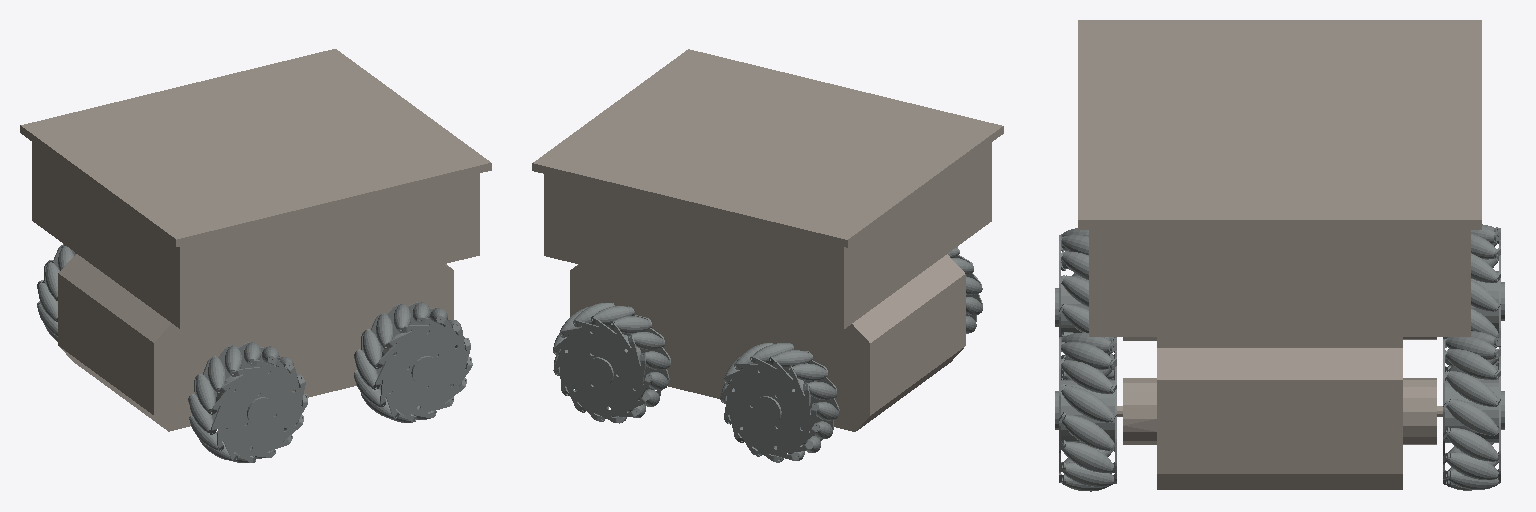
URDF robot description (urdf12-6):
<?xml version="1.0" encoding="utf-8"?>
<!-- This URDF was automatically created by SolidWorks to URDF Exporter! Originally created by Stephen Brawner (brawner@gmail.com) 
     Commit Version: 1.6.0-1-g15f4949  Build Version: 1.6.7594.29634
     For more information, please see http://wiki.ros.org/sw_urdf_exporter -->
<robot
  name="urdf12-6">
  <link name="base_footprint">
  </link>
  <link
    name="base_link">
    <inertial>
      <origin
        xyz="-3.81796532062504E-18 1.37386604686677E-17 -0.00480318889339569"
        rpy="0 0 0" />
      <mass
        value="30.4259503345265" />
      <inertia
        ixx="0.422421609875218"
        ixy="-1.14233499515592E-17"
        ixz="-1.74157299818039E-17"
        iyy="0.598417947630081"
        iyz="-3.14098420828289E-17"
        izz="0.617470364757312" />
    </inertial>
    <visual>
      <origin
        xyz="0 0 0"
        rpy="0 0 0" />
      <geometry>
        <mesh
          filename="package://mecanum_mr/meshes/base_link.STL" />
      </geometry>
      <material
        name="">
        <color
          rgba="0.650980392156863 0.619607843137255 0.588235294117647 1" />
      </material>
    </visual>
    <collision>
      <origin
        xyz="0 0 0"
        rpy="0 0 0" />
      <geometry>
        <mesh
          filename="package://mecanum_mr/meshes/base_link.STL" />
      </geometry>
    </collision>
  </link>
  <joint name="base_joint" type="fixed">
		<parent link="base_footprint" />
		<child link="base_link" />
		<origin xyz="0 0 0.185" rpy="0 0 0"/>
	</joint>
  <link
    name="W1">
    <inertial>
      <origin
        xyz="-0.00058365 0.0010812 0.028868"
        rpy="0 0 0" />
      <mass
        value="2.6342" />
      <inertia
        ixx="0.0035197"
        ixy="1.7883E-09"
        ixz="-5.9905E-08"
        iyy="0.0035197"
        iyz="-5.003E-09"
        izz="0.0061962" />
    </inertial>
    <visual>
      <origin
        xyz="0 0 0"
        rpy="0 0 0" />
      <geometry>
        <mesh
          filename="package://mecanum_mr/meshes/W1.STL" />
      </geometry>
      <material
        name="">
        <color
          rgba="0.52941 0.54902 0.54902 1" />
      </material>
    </visual>
    <collision>
      <origin
        xyz="0 0 0"
        rpy="0 0 0" />
      <geometry>
        <mesh
          filename="package://mecanum_mr/meshes/W1.STL" />
      </geometry>
    </collision>
  </link>
  <joint
    name="J-w1"
    type="continuous">
    <origin
      xyz="0.11063 -0.20025 -0.11383"
      rpy="-1.5708 0 0" />
    <parent
      link="base_link" />
    <child
      link="W1" />
    <axis
      xyz="0 0 -1" />
    <limit
      lower="0"
      upper="0"
      effort="30"
      velocity="30" />
    <dynamics
      damping="0.1"
      friction="0.1" />
  </joint>
  <link
    name="W2">
    <inertial>
      <origin
        xyz="-0.00122317488329381 -0.00011606444863449 0.0288683643871434"
        rpy="0 0 0" />
      <mass
        value="2.63423386950633" />
      <inertia
        ixx="0.00351971856076166"
        ixy="7.31826596754443E-10"
        ixz="-1.8742270101092E-08"
        iyy="0.00351972496216119"
        iyz="-5.71172503754628E-08"
        izz="0.00619618953824557" />
    </inertial>
    <visual>
      <origin
        xyz="0 0 0"
        rpy="0 0 0" />
      <geometry>
        <mesh
          filename="package://mecanum_mr/meshes/W2.STL" />
      </geometry>
      <material
        name="">
        <color
          rgba="0.529411764705882 0.549019607843137 0.549019607843137 1" />
      </material>
    </visual>
    <collision>
      <origin
        xyz="0 0 0"
        rpy="0 0 0" />
      <geometry>
        <mesh
          filename="package://mecanum_mr/meshes/W2.STL" />
      </geometry>
    </collision>
  </link>
  <joint
    name="J-w2"
    type="continuous">
    <origin
      xyz="-0.10868 -0.20025 -0.11513"
      rpy="-1.5708 0 0" />
    <parent
      link="base_link" />
    <child
      link="W2" />
    <axis
      xyz="0 0 -1" />
    <limit
      lower="0"
      upper="0"
      effort="30"
      velocity="30" />
    <dynamics
      damping="0.1"
      friction="0.1" />
  </joint>
  <link
    name="W3">
    <inertial>
      <origin
        xyz="0.00113385355119835 0.000473290476708049 -0.0288683643871428"
        rpy="0 0 0" />
      <mass
        value="2.63423386950646" />
      <inertia
        ixx="0.00351972058659792"
        ixy="-3.06589920256822E-09"
        ixz="-4.3419309339679E-08"
        iyy="0.00351972293632519"
        iyz="4.15742141533899E-08"
        izz="0.00619618953824579" />
    </inertial>
    <visual>
      <origin
        xyz="0 0 0"
        rpy="0 0 0" />
      <geometry>
        <mesh
          filename="package://mecanum_mr/meshes/W3.STL" />
      </geometry>
      <material
        name="">
        <color
          rgba="0.529411764705882 0.549019607843137 0.549019607843137 1" />
      </material>
    </visual>
    <collision>
      <origin
        xyz="0 0 0"
        rpy="0 0 0" />
      <geometry>
        <mesh
          filename="package://mecanum_mr/meshes/W3.STL" />
      </geometry>
    </collision>
  </link>
  <joint
    name="J-w3"
    type="continuous">
    <origin
      xyz="0.10877 0.20025 -0.11449"
      rpy="-1.5708 0 0" />
    <parent
      link="base_link" />
    <child
      link="W3" />
    <axis
      xyz="0 0 1" />
    <limit
      lower="0"
      upper="0"
      effort="30"
      velocity="30" />
    <dynamics
      damping="0.1"
      friction="0.1" />
  </joint>
  <link
    name="W4">
    <inertial>
      <origin
        xyz="0.00017707 0.0012158 -0.028868"
        rpy="0 0 0" />
      <mass
        value="2.6342" />
      <inertia
        ixx="0.0035197"
        ixy="4.0855E-10"
        ixz="-5.7983E-08"
        iyy="0.0035197"
        iyz="-1.5863E-08"
        izz="0.0061962" />
    </inertial>
    <visual>
      <origin
        xyz="0 0 0"
        rpy="0 0 0" />
      <geometry>
        <mesh
          filename="package://mecanum_mr/meshes/W4.STL" />
      </geometry>
      <material
        name="">
        <color
          rgba="0.52941 0.54902 0.54902 1" />
      </material>
    </visual>
    <collision>
      <origin
        xyz="0 0 0"
        rpy="0 0 0" />
      <geometry>
        <mesh
          filename="package://mecanum_mr/meshes/W4.STL" />
      </geometry>
    </collision>
  </link>
  <joint
    name="J-w4"
    type="continuous">
    <origin
      xyz="-0.11474 0.20025 -0.1116"
      rpy="-1.5708 0 0" />
    <parent
      link="base_link" />
    <child
      link="W4" />
    <axis
      xyz="0 0 1" />
    <limit
      lower="0"
      upper="0"
      effort="30"
      velocity="30" />
    <dynamics
      damping="0.1"
      friction="0.1" />
  </joint>


<link name="lidar_link">
		<visual>
    <origin
        xyz="0.0 0.0 0.0"
        rpy="1.5707 0 4.71" />
			<geometry>
				<mesh filename="package://mecanum_mr/meshes/rplidar.dae" scale="0.001 0.001 0.001"/>
			</geometry>
			<material name="">
				<color rgba="0.7 0.7 0.7 1.0"/>
			</material>
		</visual>
		<collision>
    <origin
        xyz="0.0 0.0 0.0"
        rpy="1.5707 0 4.71" />
			<geometry>
				<mesh filename="package://mecanum_mr/meshes/rplidar.dae" scale="0.001 0.001 0.001"/>
			</geometry>
		</collision>
	</link>

	<joint name="lidar_joint" type="fixed">
		<parent link="base_link"/>
		<child link="lidar_link"/>
		<origin xyz="0.0 0 0.122" rpy="0 0 0"/>
	</joint>

	<link name="imu_link">
	</link>

	<joint name="imu_joint" type="fixed">
		<parent link="base_link"/>
		<child link="imu_link"/>
		<origin xyz="0 0 0" rpy="0 0 0"/>
	</joint>


<!--######################################################################-->
<gazebo>
  <plugin name="gazebo_ros_control" filename="libgazebo_ros_control.so">
    <robotSimType>gazebo_ros_control/DefaultRobotHWSim</robotSimType>
    <legacyModeNS>false</legacyModeNS>
  </plugin>
</gazebo>
<!--######################################################################-->
<gazebo>
  <plugin name="object_controller" filename="libgazebo_ros_planar_move.so">
    <commandTopic>cmd_vel</commandTopic>
    <odometryTopic>odom</odometryTopic>
    <odometryFrame>odom</odometryFrame>
    <odometryRate>50.0</odometryRate>
    <robotBaseFrame>base_footprint</robotBaseFrame>
    <publishTF>true</publishTF>
  </plugin>
</gazebo>
<!--######################################################################-->
<!--LIDAR-->
	<gazebo reference="lidar_link">
	  <material>Gazebo/Black</material>
	  <turnGravityOff>false</turnGravityOff>
    <sensor type="ray" name="head_rplidar_sensor">
      <pose>0 0 0 0 0 0</pose>
      <visualize>false</visualize>
      <update_rate>40</update_rate>
      <ray>
      <scan>
        <horizontal>
        <samples>360</samples>
        <resolution>1</resolution>
        <min_angle>-3.1415</min_angle>
        <max_angle>3.1415</max_angle>
        </horizontal>
      </scan>
      <range>
        <min>0.10</min>
        <max>10</max>
        <resolution>0.001</resolution>
      </range>
      </ray>
      <plugin name="gazebo_ros_head_rplidar_controller" filename="libgazebo_ros_laser.so">
      <topicName>/scan</topicName>
      <frameName>lidar_link</frameName>
      </plugin>
    </sensor>
	</gazebo>

	<gazebo reference="imu_link">
		<gravity>true</gravity>
		<sensor name="imu_sensor" type="imu">
		<always_on>true</always_on>
		<update_rate>100</update_rate>
		<visualize>true</visualize>
		<topic>__default_topic__</topic>
		<plugin filename="libgazebo_ros_imu_sensor.so" name="imu_plugin">
			<topicName>imu_data</topicName>
			<bodyName>imu_link</bodyName>
			<updateRateHZ>10.0</updateRateHZ>
			<gaussianNoise>0.0</gaussianNoise>
			<xyzOffset>0 0 0</xyzOffset>
			<rpyOffset>0 0 0</rpyOffset>
			<frameName>imu_link</frameName>
			<initialOrientationAsReference>false</initialOrientationAsReference>
		</plugin>
		<pose>0 0 0 0 0 0</pose>
		</sensor>
	</gazebo>
<gazebo reference="W1">
 <mu1 value="1.0"/>
 <mu2 value="1.0"/>
 <kp value="10000000.0" />
 <kd value="1.0" />
 <fdir1 value="1 0 0"/>
</gazebo>

<gazebo reference="W2">
 <mu1 value="1.0"/>
 <mu2 value="1.0"/>
 <kp value="10000000.0" />
 <kd value="1.0" />
 <fdir1 value="1 0 0"/>
</gazebo>

<gazebo reference="W3">
 <mu1 value="1.0"/>
 <mu2 value="1.0"/>
 <kp value="10000000.0" />
 <kd value="1.0" />
 <fdir1 value="1 0 0"/>
</gazebo>

<gazebo reference="W4">
 <mu1 value="1.0"/>
 <mu2 value="1.0"/>
 <kp value="10000000.0" />
 <kd value="1.0" />
 <fdir1 value="1 0 0"/>
</gazebo>
<!--######################################################################-->

<transmission name="bc1_trans" type="SimpleTransmission">
  <type>transmission_interface/SimpleTransmission</type>
  <actuator name="bc1_motor">
   <hardwareInterface>hardware_interface/VelocityJointInterface</hardwareInterface>
   <mechanicalReduction>1</mechanicalReduction>
  </actuator>
  <joint name="J-w1">
   <hardwareInterface>hardware_interface/VelocityJointInterface</hardwareInterface>
  </joint>
</transmission>

<transmission name="bc2_trans" type="SimpleTransmission">
  <type>transmission_interface/SimpleTransmission</type>
  <actuator name="bc2_motor">
   <hardwareInterface>hardware_interface/VelocityJointInterface</hardwareInterface>
   <mechanicalReduction>1</mechanicalReduction>
  </actuator>
  <joint name="J-w2">
   <hardwareInterface>hardware_interface/VelocityJointInterface</hardwareInterface>
  </joint>
</transmission>
<transmission name="bc3_trans" type="SimpleTransmission">
  <type>transmission_interface/SimpleTransmission</type>
  <actuator name="bc3_motor">
   <hardwareInterface>hardware_interface/VelocityJointInterface</hardwareInterface>
   <mechanicalReduction>1</mechanicalReduction>
  </actuator>
  <joint name="J-w3">
   <hardwareInterface>hardware_interface/VelocityJointInterface</hardwareInterface>
  </joint>
</transmission>

<transmission name="bc4_trans" type="SimpleTransmission">
  <type>transmission_interface/SimpleTransmission</type>
  <actuator name="bc4_motor">
   <hardwareInterface>hardware_interface/VelocityJointInterface</hardwareInterface>
   <mechanicalReduction>1</mechanicalReduction>
  </actuator>
  <joint name="J-w4">
   <hardwareInterface>hardware_interface/VelocityJointInterface</hardwareInterface>
  </joint>
</transmission>
</robot>

--- What the picture shows (computed from the rendered views, not written in the file) ---
The picture shows the robot from 3 angles, left to right: view 1: azimuth 30°, elevation 25°; view 2: azimuth 150°, elevation 25°; view 3: azimuth 270°, elevation 25°; orthographic projection.
Model urdf12-6 with 8 links and 7 joints (4 continuous, 3 fixed), rooted at base_footprint, posed all joints at 0.
Visible links, largest first — view 1: base_link, W2, W1, W4; view 2: base_link, W3, W4, W2; view 3: base_link, W3, W1, W4, W2.
Boxes of the visible links, x1,y1,x2,y2 form: base_link: (20, 49, 491, 431); W2: (188, 342, 307, 462); W1: (354, 302, 472, 422); W4: (37, 244, 76, 341); base_link: (532, 49, 1003, 431); W3: (553, 303, 670, 423); W4: (720, 343, 839, 462); W2: (948, 247, 982, 333); base_link: (1078, 20, 1481, 489); W3: (1443, 331, 1504, 490); W1: (1055, 332, 1116, 491); W4: (1443, 224, 1504, 372); W2: (1055, 228, 1116, 379).
Size in the robot's own frame: 0.42 by 0.4005 by 0.3064 metres.
Meshes: 6 distinct files referenced, 5 mesh visuals loaded (5 binary STL); not drawn: 1 (reference not matched to a file when rendering).
